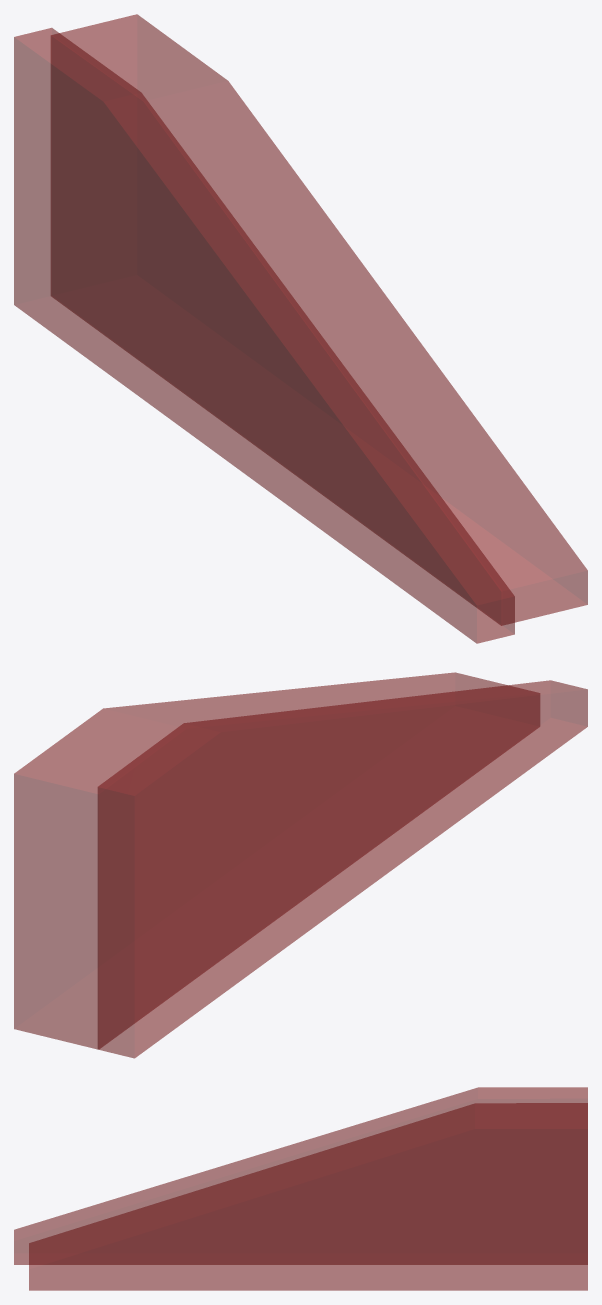
File: SM_Bld_Amphitheatre_End_01_Collision.fbx
The picture shows the model from 3 angles, top to bottom: view 1: azimuth 30°, elevation 25°; view 2: azimuth 150°, elevation 25°; view 3: azimuth 270°, elevation 25°; orthographic projection. The views are drawn at different scales.
Parts seen in each view (by area): view 1: SM_Bld_Amphitheatre_End_01_Collision; view 2: SM_Bld_Amphitheatre_End_01_Collision; view 3: SM_Bld_Amphitheatre_End_01_Collision.
Boxes of the visible parts, x1=… form: SM_Bld_Amphitheatre_End_01_Collision: x1=14, y1=14, x2=587, y2=643; SM_Bld_Amphitheatre_End_01_Collision: x1=14, y1=672, x2=587, y2=1058; SM_Bld_Amphitheatre_End_01_Collision: x1=14, y1=1087, x2=587, y2=1290.
Size of the model in its own units: 250 by 519 by 1626.
